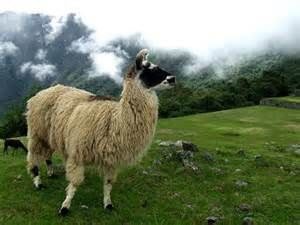alpaca: (27, 48, 177, 215)
